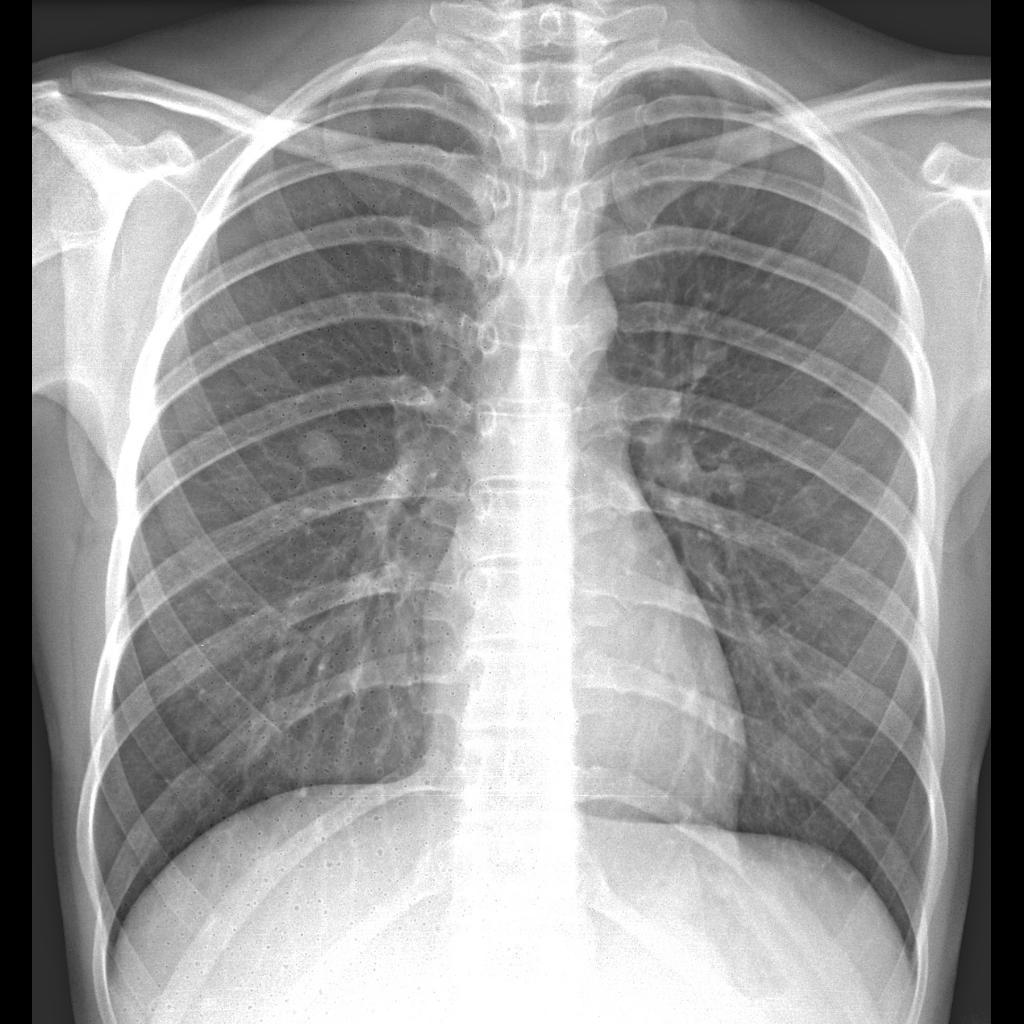Nodule: (286, 422, 350, 481)
